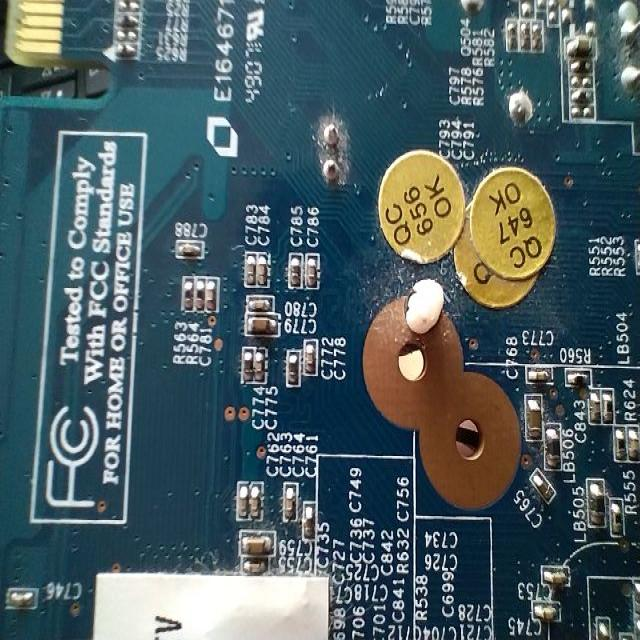capacitor: (523, 399, 549, 448), (303, 250, 322, 294), (303, 332, 318, 386), (304, 495, 319, 548), (250, 535, 279, 562), (240, 252, 258, 292), (280, 250, 298, 290), (254, 246, 270, 289), (290, 351, 306, 387), (550, 570, 575, 593), (232, 484, 247, 522), (255, 255, 270, 287), (250, 316, 274, 336), (284, 475, 293, 527), (251, 483, 262, 525)
resistor: (602, 380, 617, 425), (194, 271, 210, 312), (181, 276, 197, 313), (613, 426, 627, 468), (574, 56, 595, 77), (567, 371, 594, 387)
